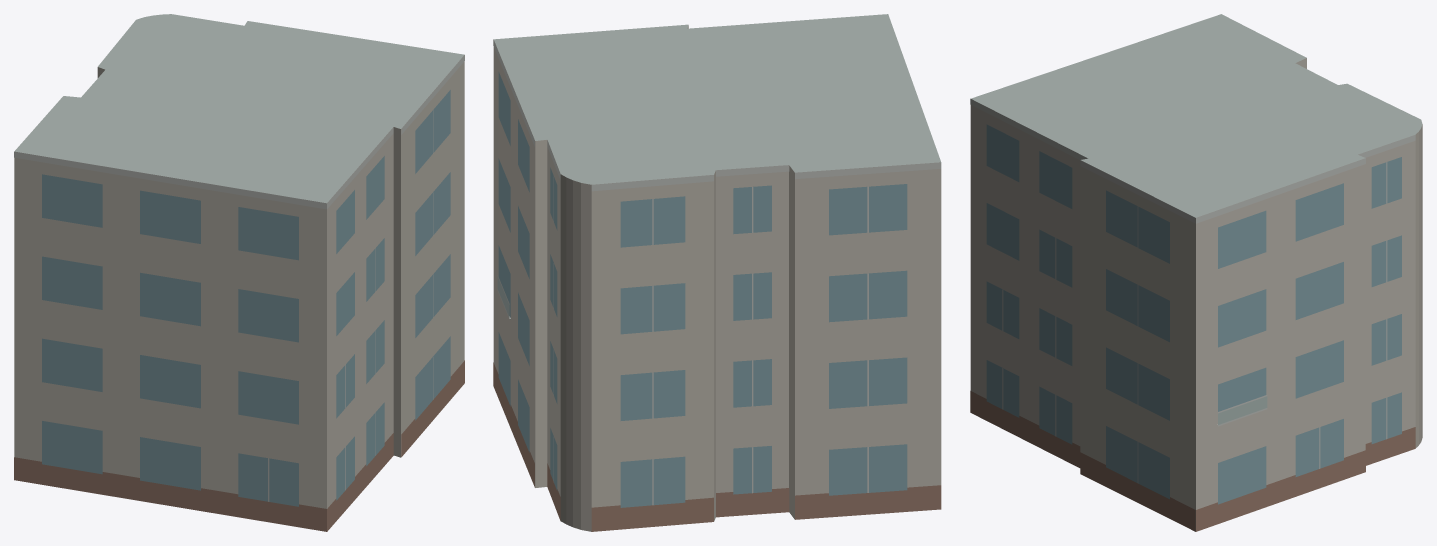
The model's file is survey-upis-32622070.glb.
3 views of the same model, side by side, from view 1: azimuth 30°, elevation 25°; view 2: azimuth 150°, elevation 25°; view 3: azimuth 270°, elevation 25° (orthographic). The views are drawn at different scales.
Parts seen in each view (by area): view 1: survey-upis-32622070.tmp; view 2: survey-upis-32622070.tmp; view 3: survey-upis-32622070.tmp.
Part boxes in pixels (bbox=[...]): survey-upis-32622070.tmp: bbox=[14, 14, 464, 531]; survey-upis-32622070.tmp: bbox=[493, 14, 941, 531]; survey-upis-32622070.tmp: bbox=[970, 14, 1422, 531].
Bounding box in the file's own units: 17.97 × 12.9 × 16.83.
